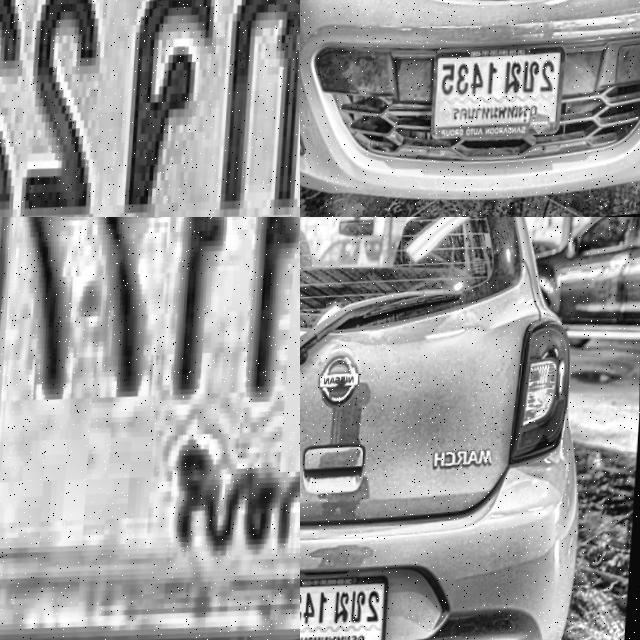license-plate: (0, 217, 300, 640), (0, 0, 300, 217), (424, 37, 572, 167), (300, 568, 393, 640)
